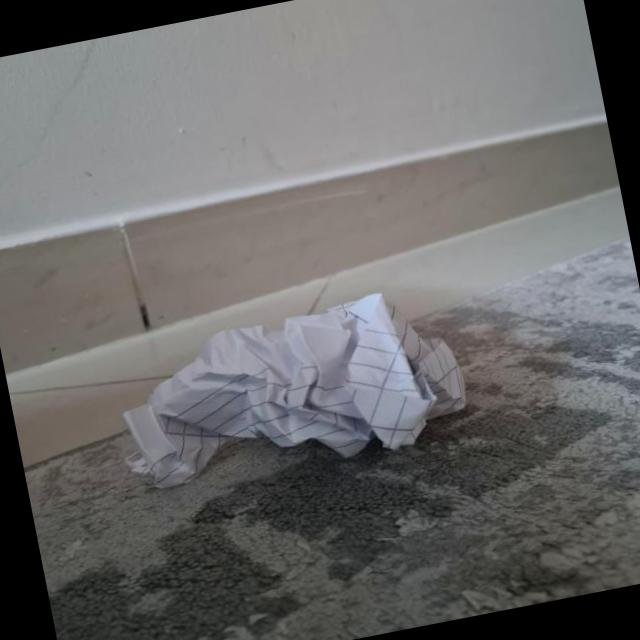cardboard paper: (121, 292, 462, 485)
